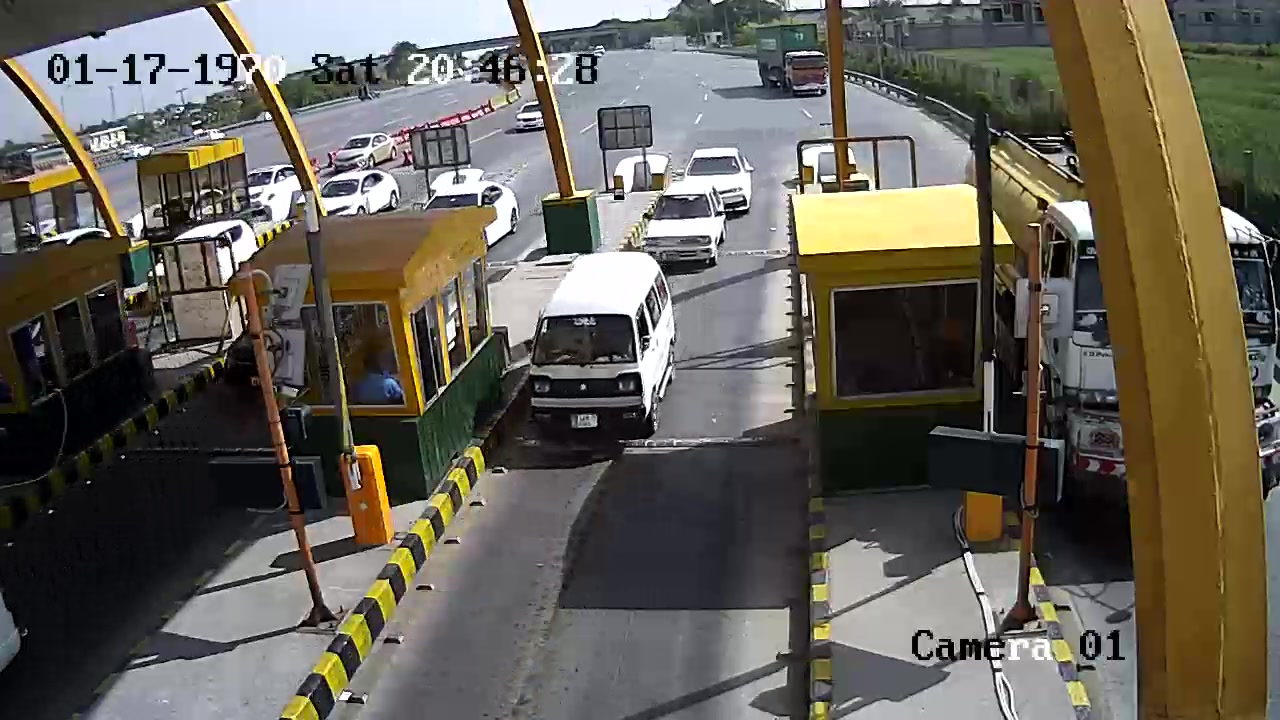F1: (525, 247, 679, 447)
